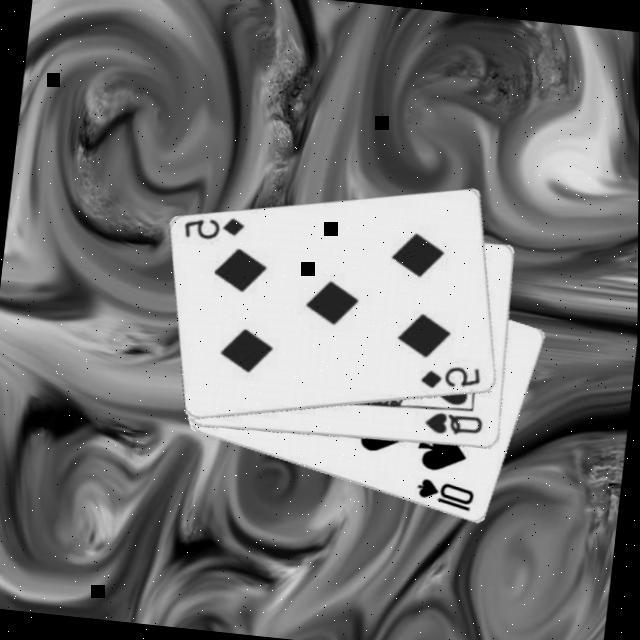10S: (411, 476, 478, 517)
5D: (178, 211, 248, 248), (416, 360, 484, 398)
QH: (420, 410, 485, 442)
